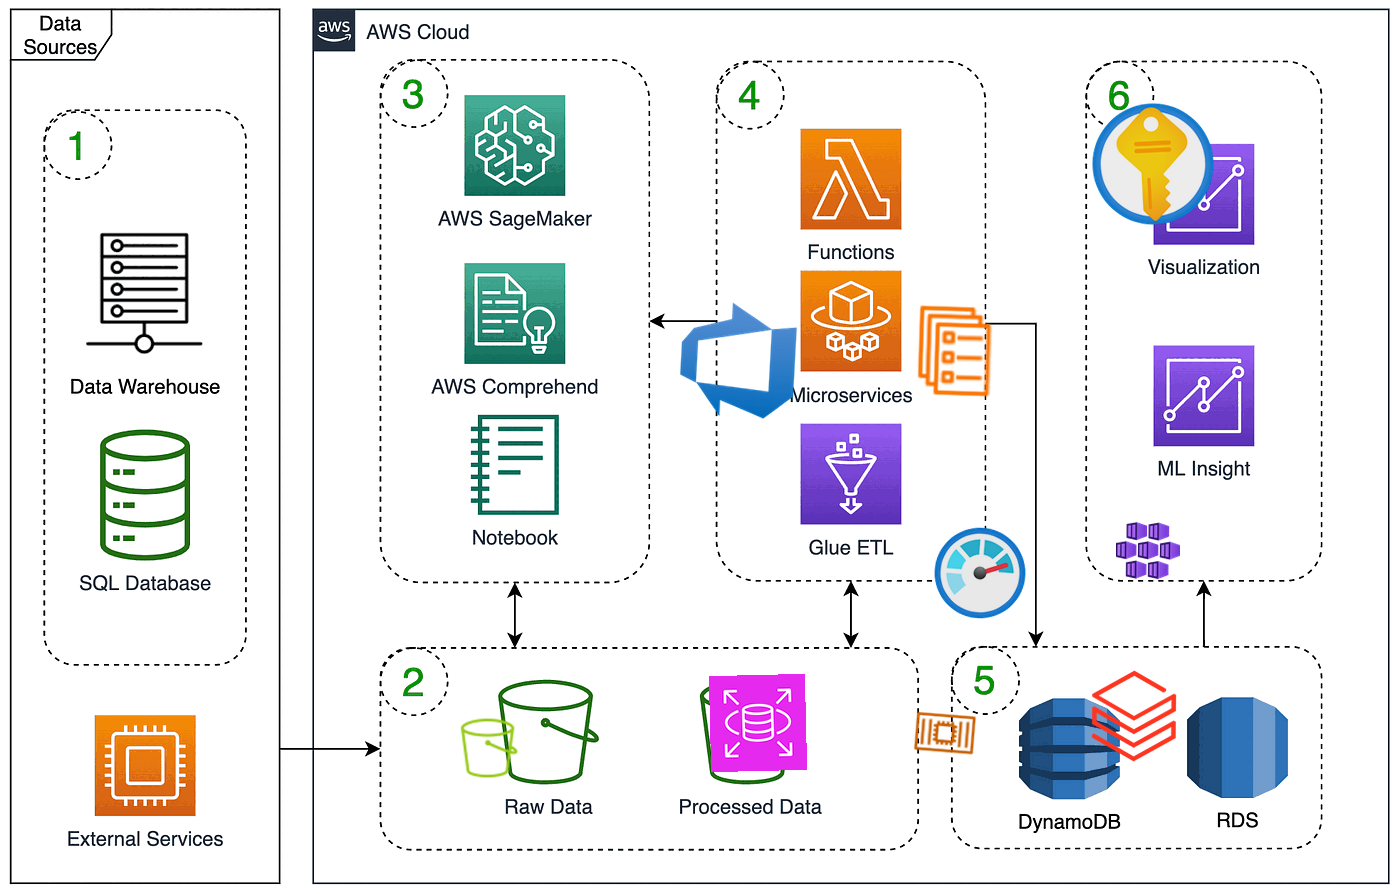aws_amazon_rds: (708, 673, 808, 773)
aws_elastic_container_service_container_2: (910, 698, 980, 768)
aws_elastic_container_service_service: (905, 301, 1005, 401)
aws_simple_storage_service_s3_standard: (456, 715, 522, 781)
azure_databricks: (1085, 667, 1183, 765)
azure_devops: (670, 292, 806, 428)
azure_key_vaults: (1085, 96, 1221, 232)
azure_kubernetes_services: (1115, 517, 1181, 583)
azure_monitor: (928, 521, 1032, 625)
